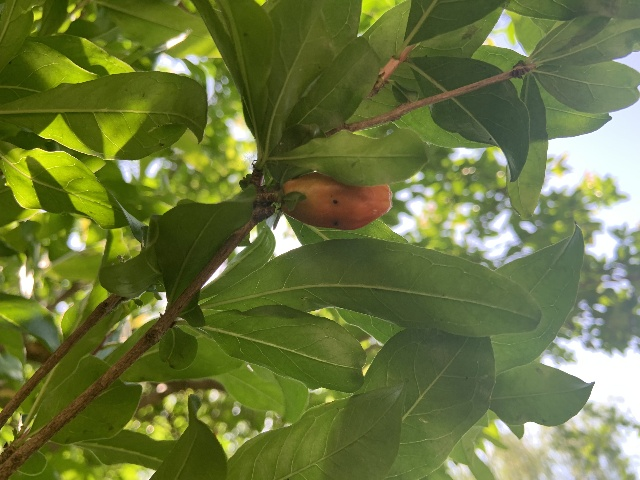bud: (281, 173, 392, 231)
